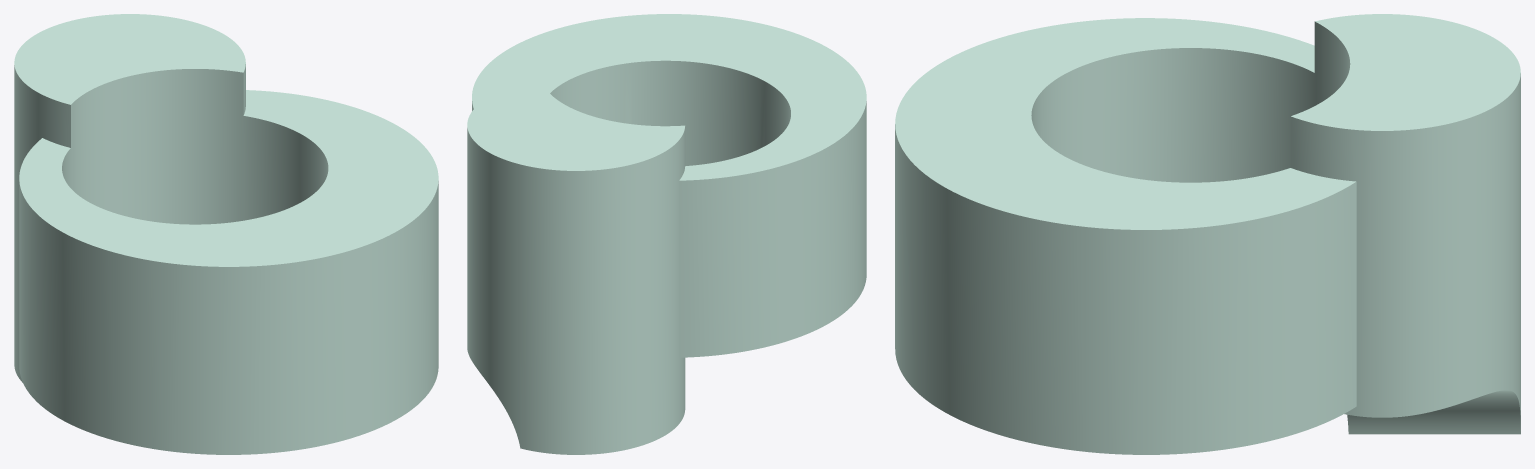
3 views of the same model, side by side, from view 1: azimuth 30°, elevation 25°; view 2: azimuth 150°, elevation 25°; view 3: azimuth 270°, elevation 25° (orthographic). The views are drawn at different scales.
Parts seen in each view (by area): view 1: Renderer Node; view 2: Renderer Node; view 3: Renderer Node.
Boxes of the visible parts, x1,y1,x2,y2 form: Renderer Node: (14, 14, 438, 454); Renderer Node: (467, 14, 866, 454); Renderer Node: (895, 14, 1520, 454).
Size of the model in its own units: 0.7579 by 0.6016 by 0.9454.
